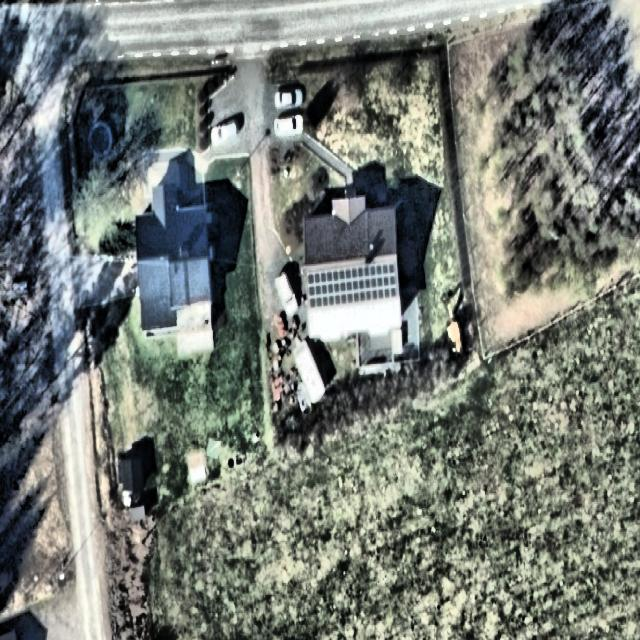roof_pv: (306, 265, 354, 310), (354, 260, 398, 305)
